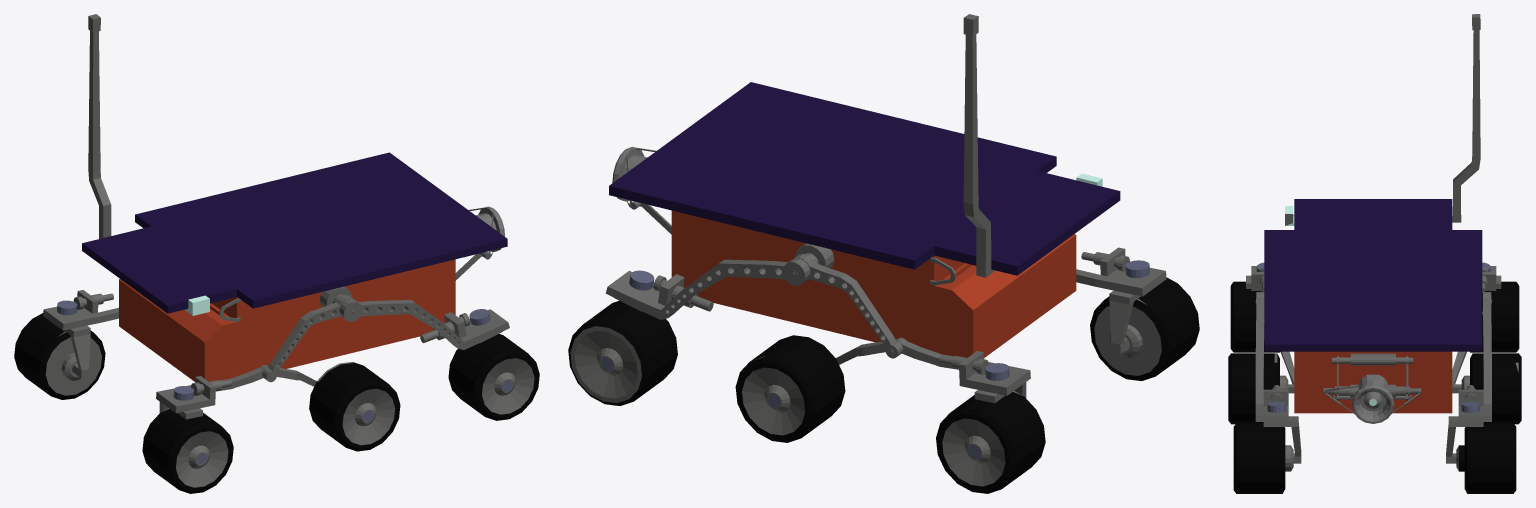
File: SOJOURNER.glb
The picture shows the model from 3 angles, left to right: view 1: azimuth 30°, elevation 25°; view 2: azimuth 150°, elevation 25°; view 3: azimuth 270°, elevation 25°; orthographic projection. The views are drawn at different scales.
Parts seen in each view (by area): view 1: rover; view 2: rover; view 3: rover.
Part boxes in pixels (x1=…): rover: x1=14, y1=14, x2=539, y2=493; rover: x1=568, y1=14, x2=1199, y2=493; rover: x1=1228, y1=14, x2=1521, y2=493.
Bounding box in the file's own units: 0.2867 × 0.2565 × 0.1962.
